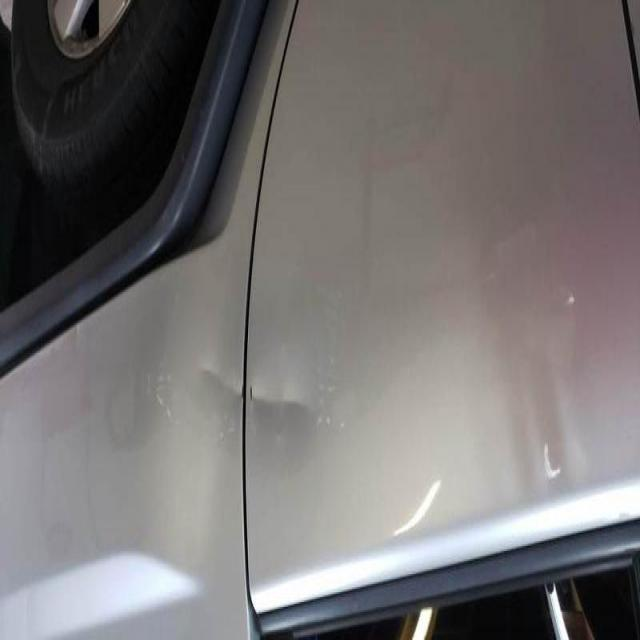dent: (181, 323, 358, 462)
